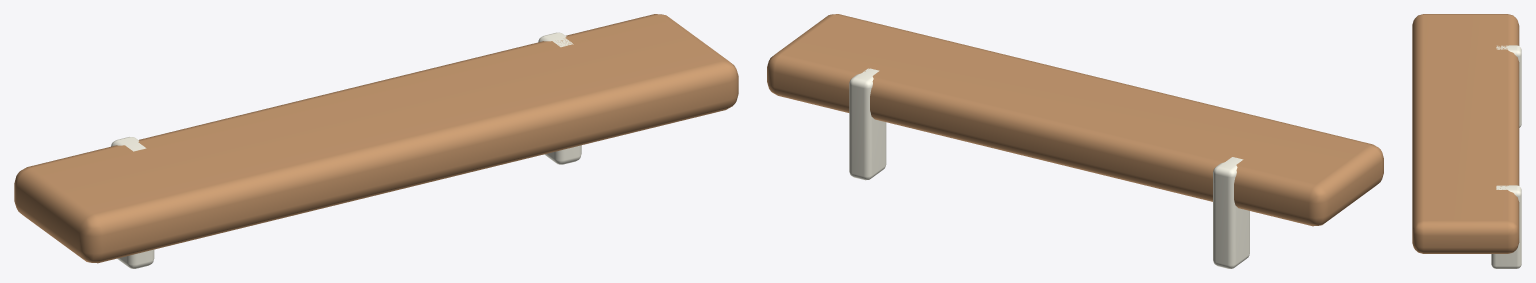
File: bathroomLongShelf.glb
3 views of the same model, side by side, from view 1: azimuth 30°, elevation 25°; view 2: azimuth 150°, elevation 25°; view 3: azimuth 270°, elevation 25° (orthographic). The views are drawn at different scales.
Visible parts, largest first — view 1: Wall shelf, Shelf bracket, Shelf bracket.001; view 2: Wall shelf, Shelf bracket.001, Shelf bracket; view 3: Wall shelf, Shelf bracket.001, Shelf bracket.
Boxes of the visible parts, x1,y1,x2,y2 form: Wall shelf: [14, 14, 738, 263]; Shelf bracket: [111, 137, 154, 268]; Shelf bracket.001: [538, 32, 581, 164]; Wall shelf: [767, 14, 1383, 226]; Shelf bracket.001: [849, 68, 886, 180]; Shelf bracket: [1213, 157, 1249, 268]; Wall shelf: [1412, 14, 1519, 253]; Shelf bracket.001: [1491, 185, 1521, 268]; Shelf bracket: [1496, 45, 1521, 127].
Bounding box in the file's own units: 2 × 0.34 × 0.43.
